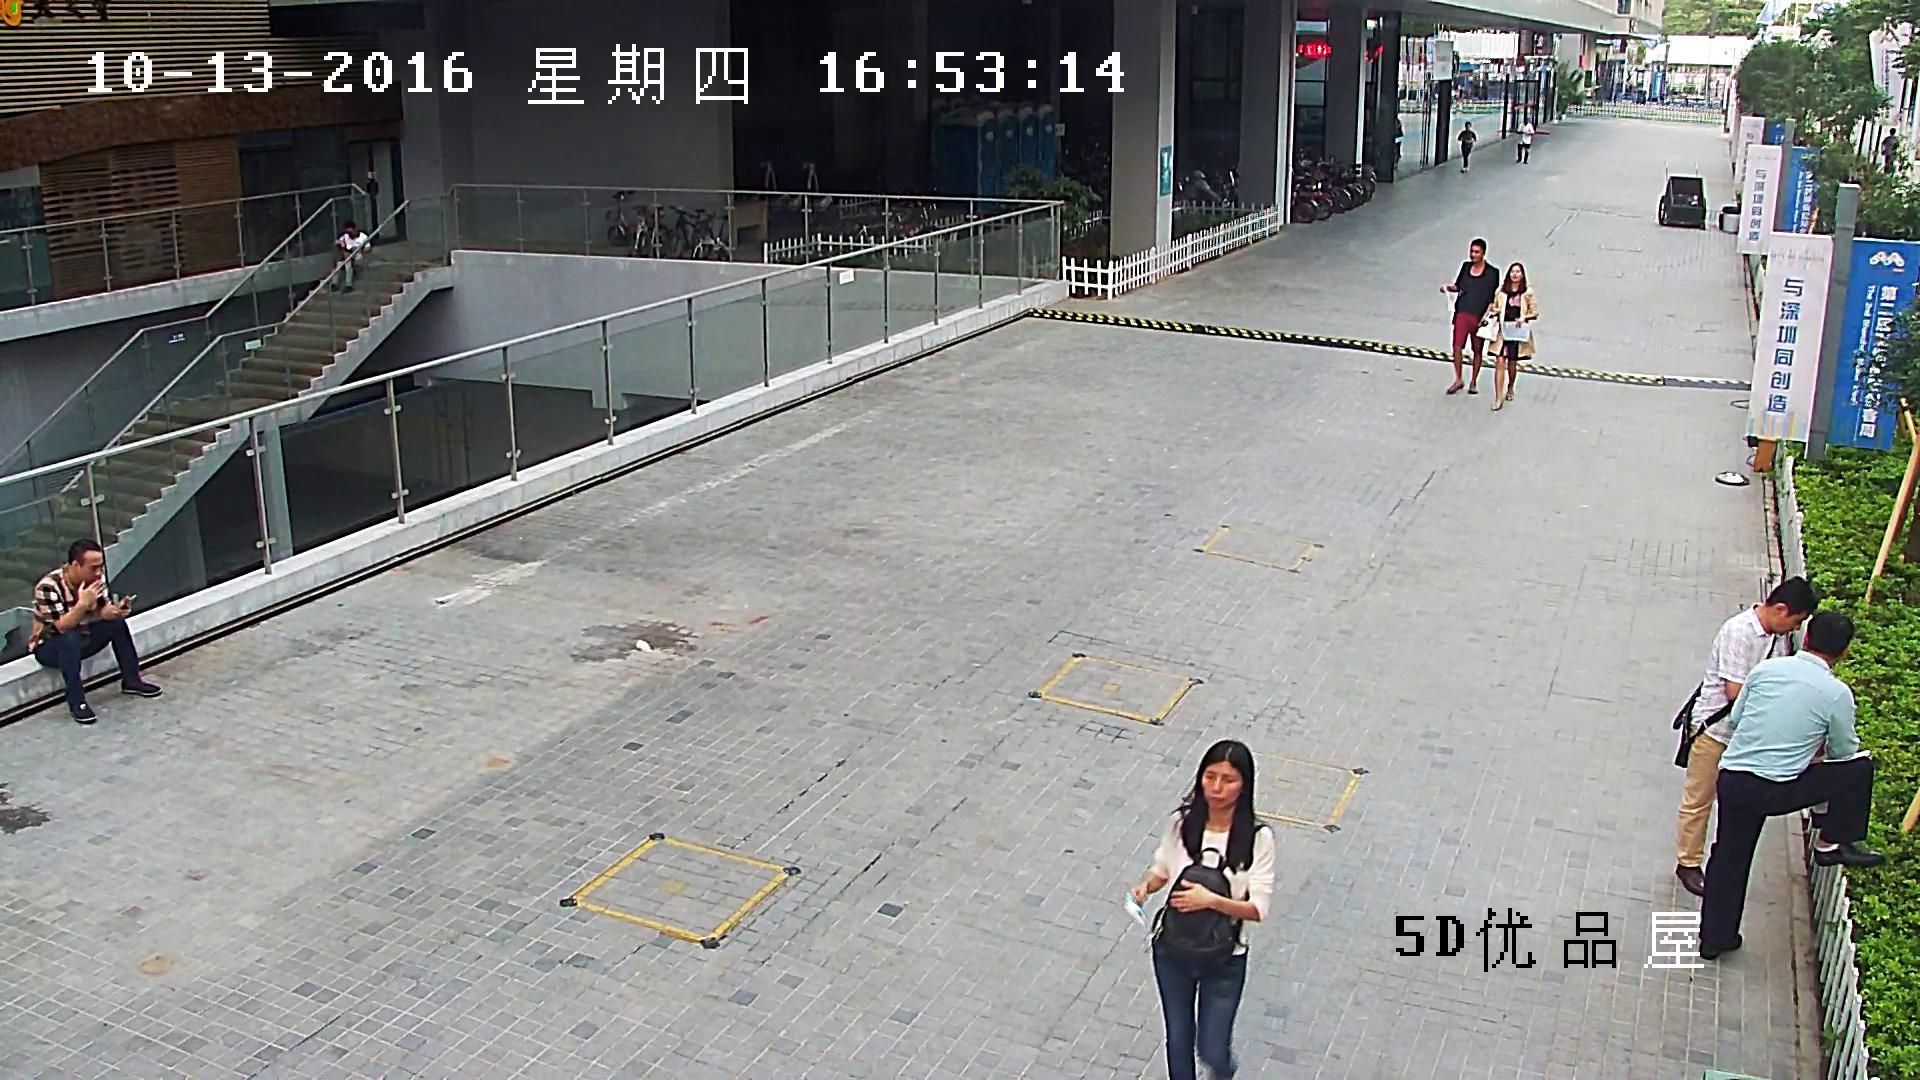person: (1694, 609, 1886, 959), (1123, 737, 1275, 1080), (1668, 576, 1819, 895), (25, 535, 163, 725), (1438, 236, 1500, 394), (1476, 260, 1539, 411), (331, 220, 371, 293), (1456, 121, 1476, 172), (1515, 117, 1534, 164), (1881, 127, 1898, 174), (1395, 119, 1403, 164)
